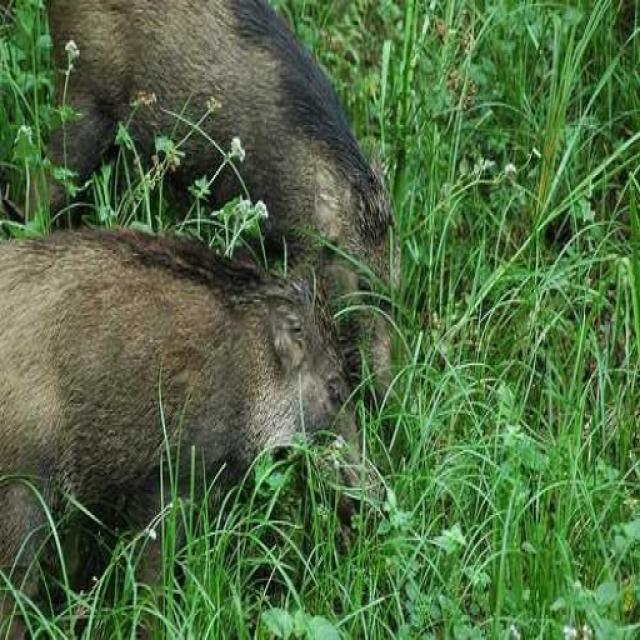pig: (0, 189, 372, 546), (110, 0, 404, 359)
